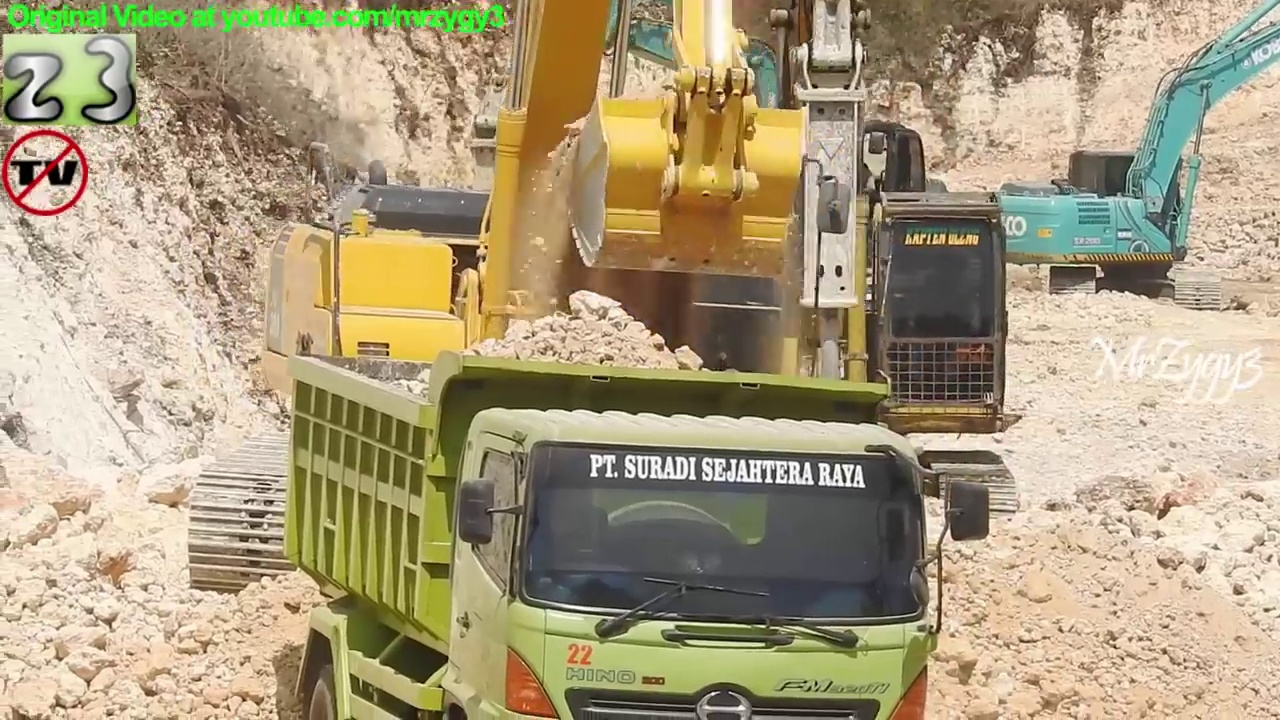excavator: (182, 3, 919, 620), (400, 1, 1030, 589), (960, 3, 1280, 317)
truck: (279, 333, 1000, 720)
